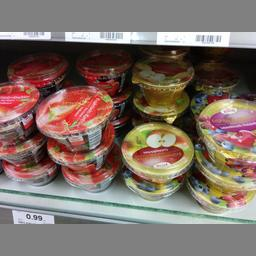jam: (34, 84, 113, 150), (120, 120, 194, 184), (196, 96, 254, 175), (132, 56, 194, 106), (0, 82, 38, 148)
